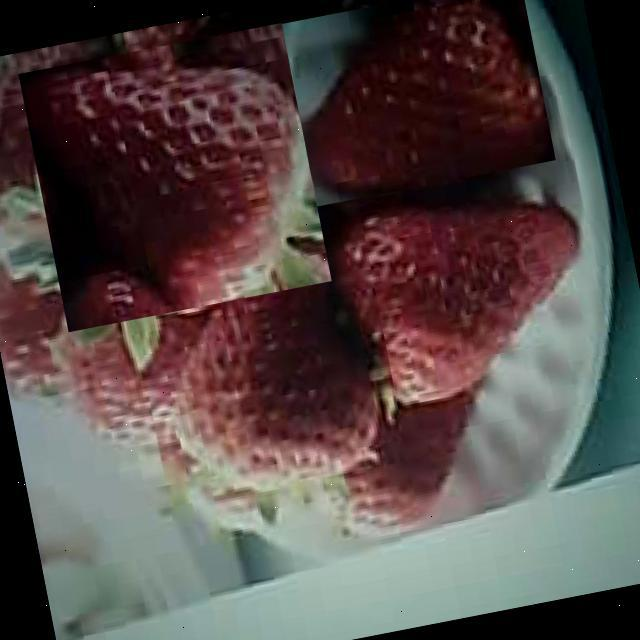ripe: (18, 23, 332, 332), (145, 230, 386, 497), (338, 175, 602, 411), (279, 0, 556, 206)
